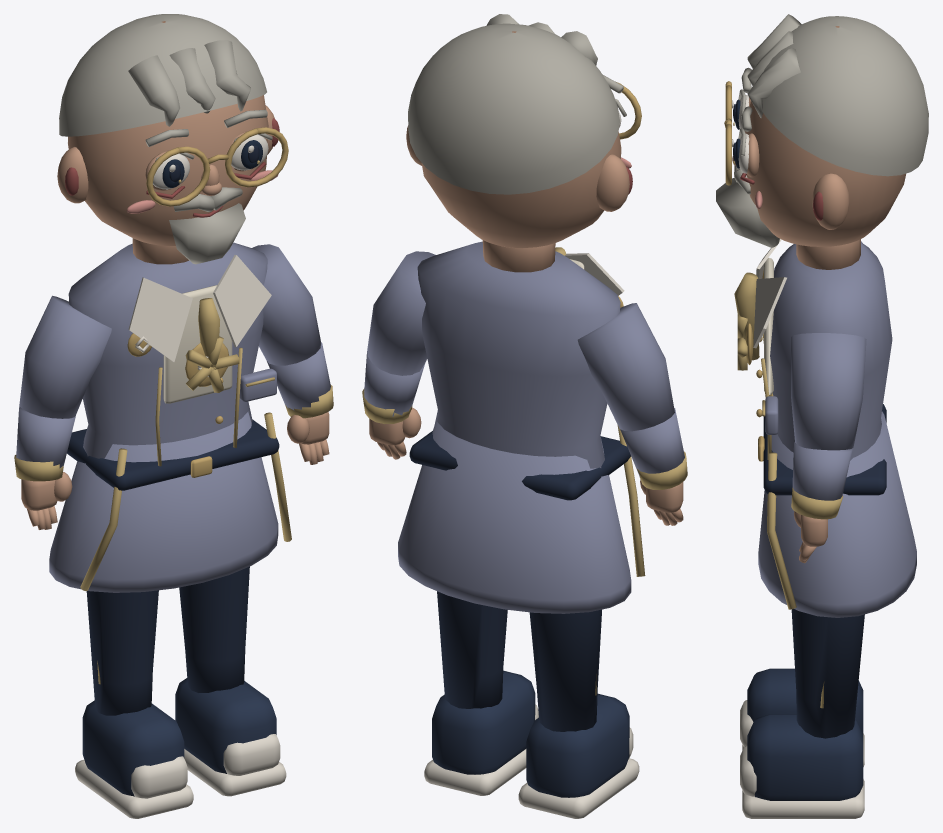
File: npc_npc_peak_stargazer_reward.glb
3 renders of one model, left to right at view 1: azimuth 30°, elevation 25°; view 2: azimuth 150°, elevation 25°; view 3: azimuth 270°, elevation 25°, orthographic.
Parts seen in each view (by area): view 1: figure.075; view 2: figure.075; view 3: figure.075.
Boxes of the visible parts, x1,y1,x2,y2 form: figure.075: [14, 14, 333, 818]; figure.075: [362, 14, 687, 818]; figure.075: [716, 14, 928, 818].
Bounding box in the file's own units: 0.6629 × 1.52 × 0.3873.
